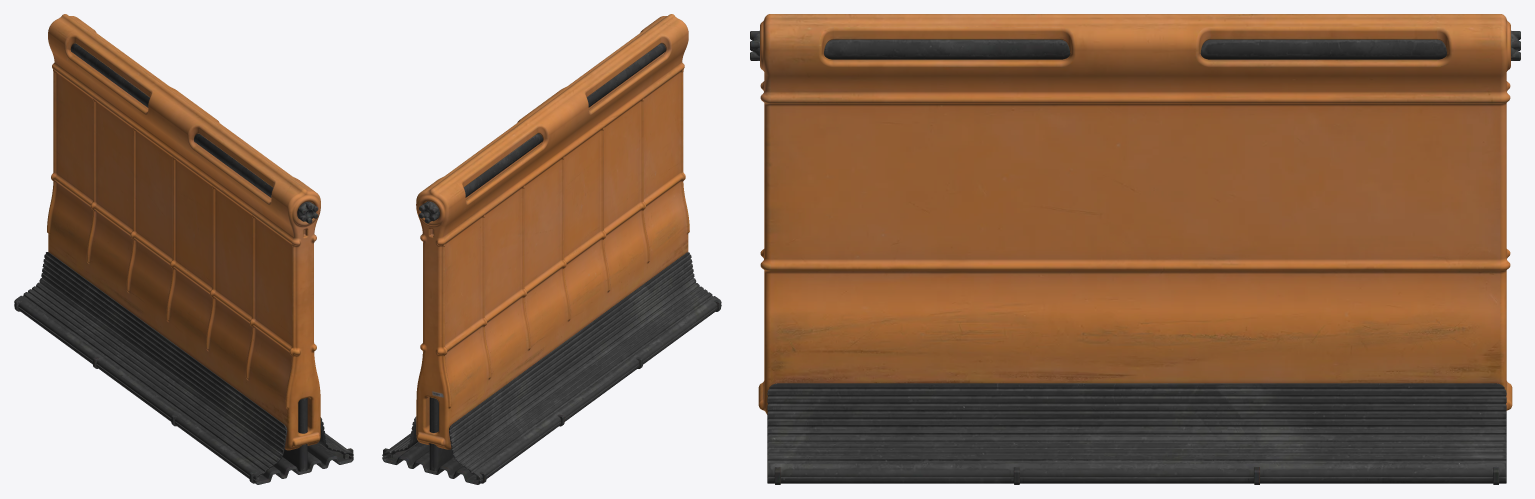
File: barricada.glb
3 renders of one model, left to right at view 1: azimuth 30°, elevation 25°; view 2: azimuth 150°, elevation 25°; view 3: azimuth 270°, elevation 25°, orthographic. The views are drawn at different scales.
Visible parts, largest first — view 1: base_01_mesh_00; view 2: base_01_mesh_00; view 3: base_01_mesh_00.
Part boxes in pixels (<box>): base_01_mesh_00: <box>14,14,353,484</box>; base_01_mesh_00: <box>382,14,721,484</box>; base_01_mesh_00: <box>750,14,1520,484</box>.
Size of the model in its own units: 0.312 by 0.8301 by 1.34.
3 materials, 3 textured.
